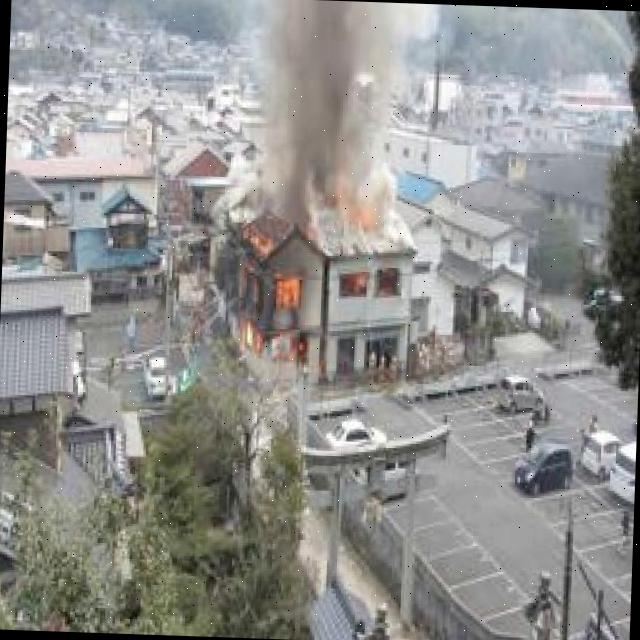fire: (228, 227, 305, 368), (336, 270, 370, 298)
